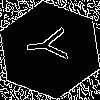Y: (25, 25, 78, 65)
